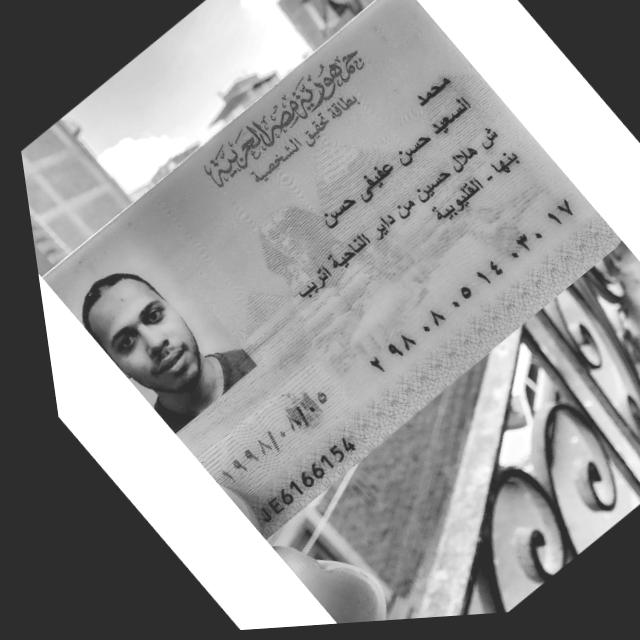front: (2, 0, 640, 565)
